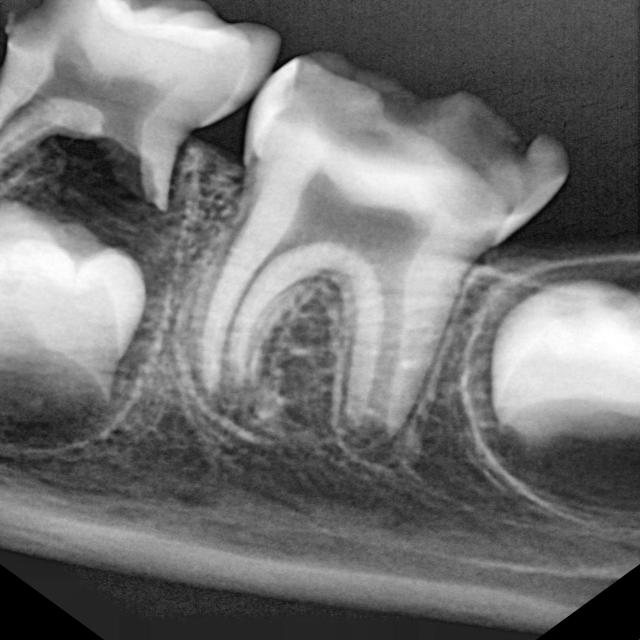Caries: (187, 19, 618, 308)
